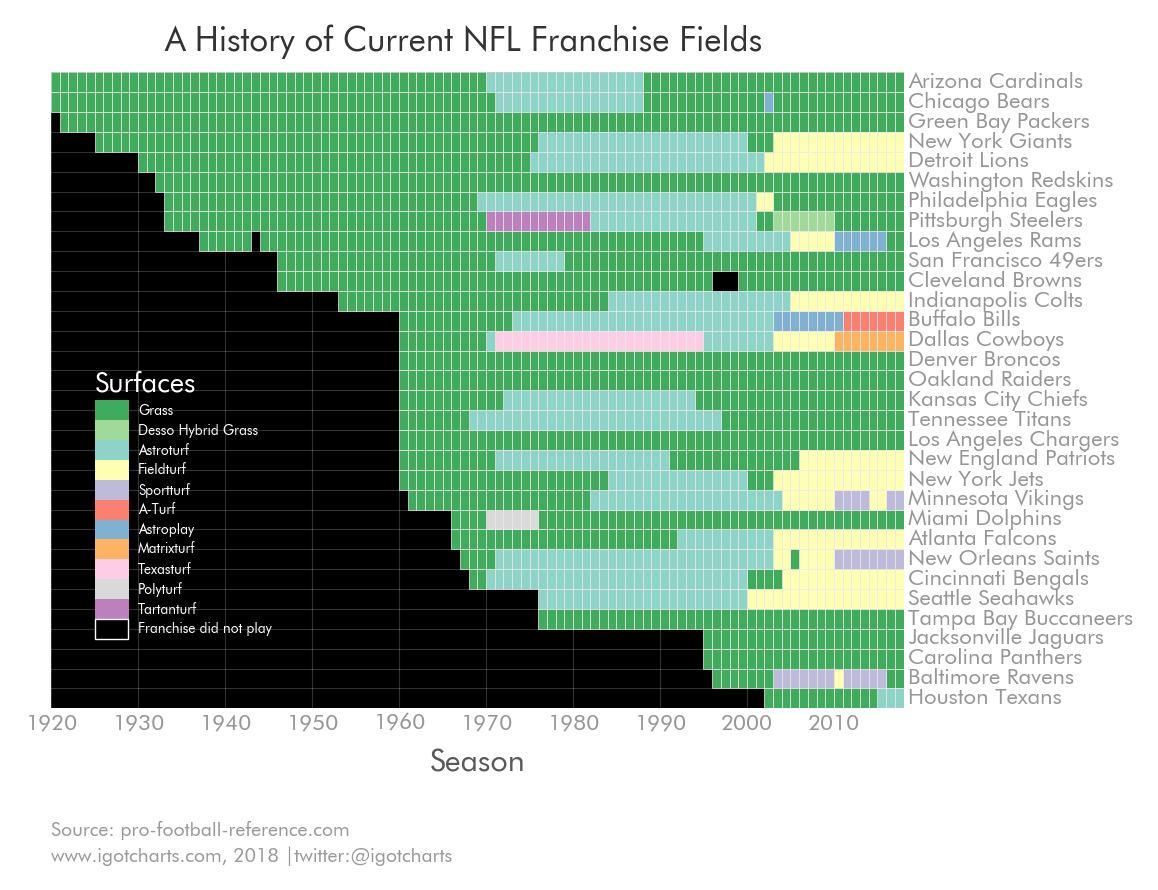

This screenshot's page, from the dashboard's own definition file:
{"tool":"tableau","page":{"name":"Dashboard 1","canvas":[1000,700],"ordinal":0},"visuals":[{"type":"worksheet","title":"Sheet 1","mark":"Shape","rows":["Function"],"cols":["Chart Type"],"box":[7,10,934,584]},{"type":"worksheet","title":"column totals","mark":"Automatic","cols":["Chart Type"],"box":[166,608,777,31]}]}

Visuals, with their boxes on the page's 1000x700 design canvas (x1, y1, x2, y2). These are canvas units, not pixel positions in the 1158x890 screenshot, which may show the page scaled, cropped or inside an application window:
"Sheet 1" worksheet (Shape marks): l=7, t=10, r=941, b=594
"column totals" worksheet: l=166, t=608, r=943, b=639
